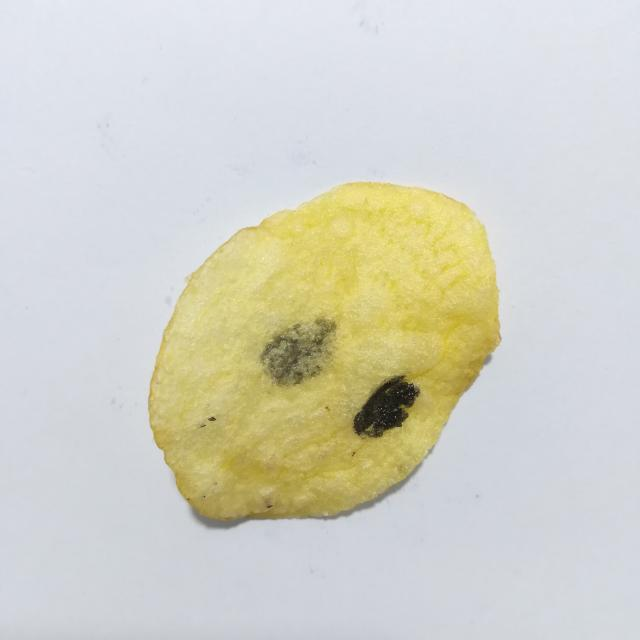chip: (149, 182, 500, 520)
damaged: (354, 375, 420, 437), (208, 416, 216, 421)
semi-damaged: (260, 318, 337, 385)
